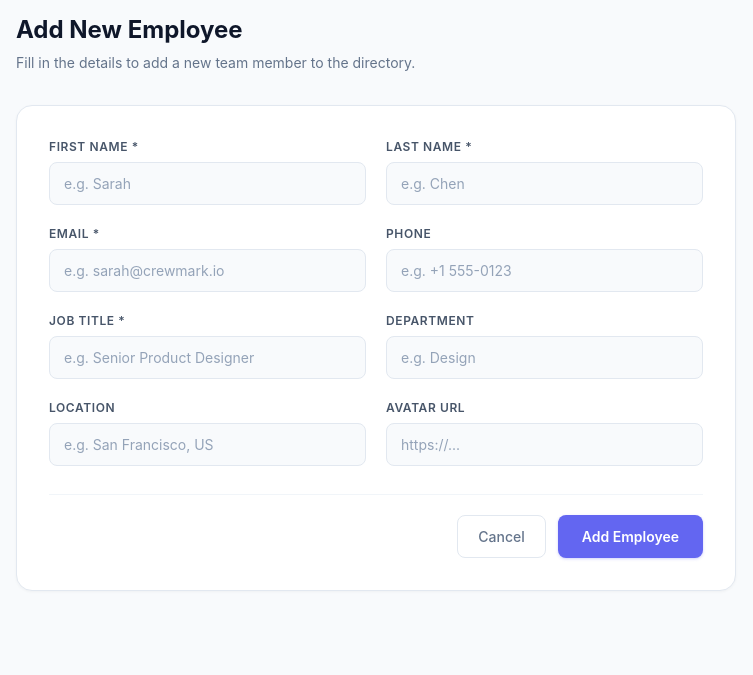
Scenario: AddEmployee page › shows validation error when required fields missing
What coordinates should you click on to do the following:
click the button "Add Employee"
I would click on:
 (630, 536)
Its box is left=558, top=515, right=703, bottom=558.
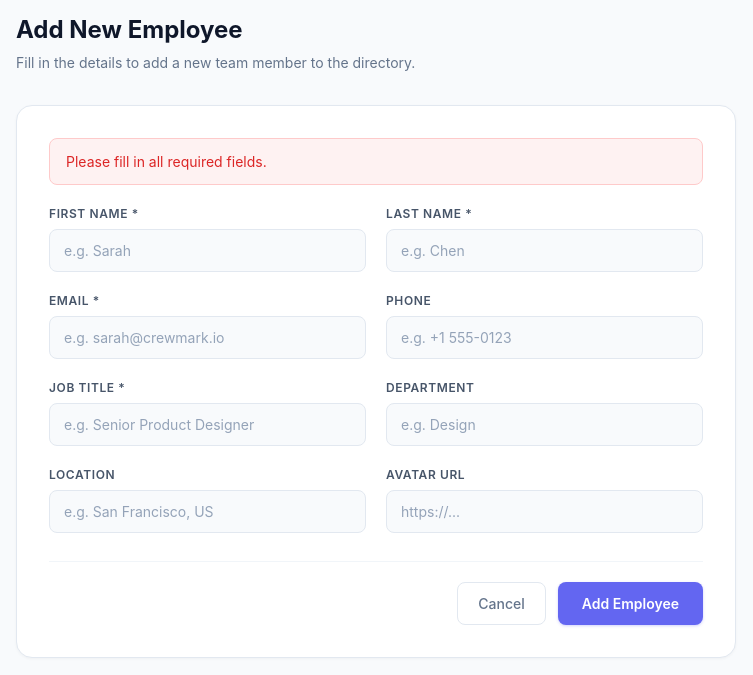
Expected: the text "Please fill in all required fields." is shown, left=49, top=138, right=703, bottom=185
